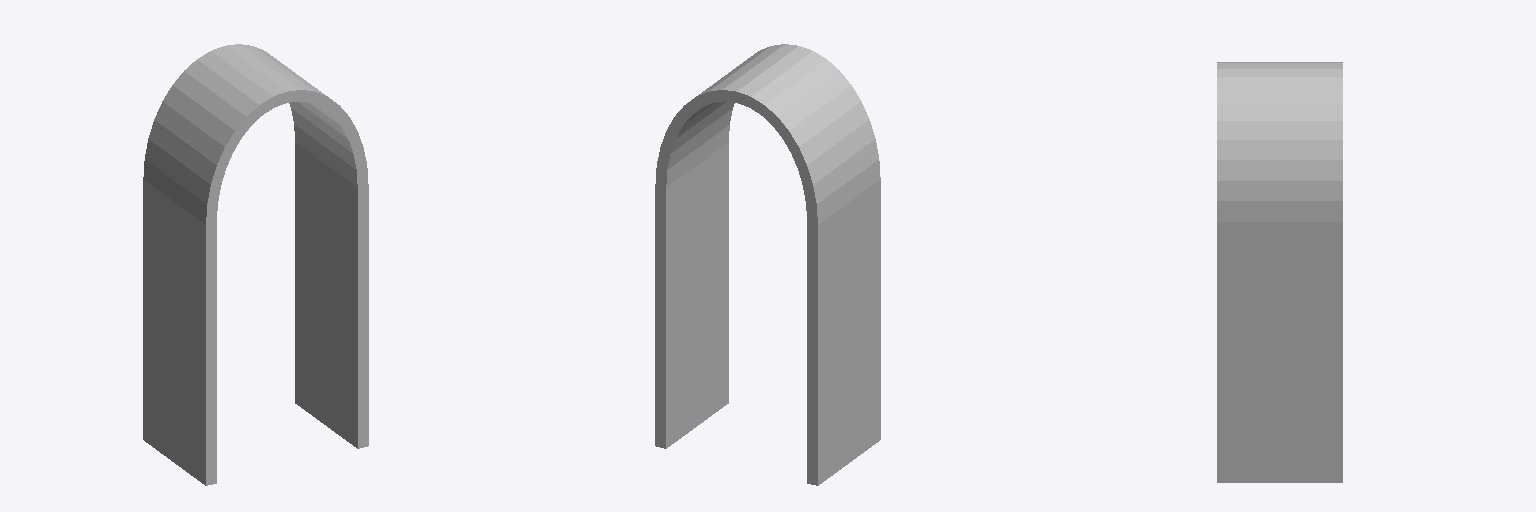
File: Arch (1).obj
3 views of the same model, side by side, from view 1: azimuth 30°, elevation 25°; view 2: azimuth 150°, elevation 25°; view 3: azimuth 270°, elevation 25° (orthographic).
Visible parts, largest first — view 1: Arch (1); view 2: Arch (1); view 3: Arch (1).
Boxes of the visible parts, <box> form: Arch (1): <box>143,44,368,485</box>; Arch (1): <box>655,44,880,485</box>; Arch (1): <box>1217,62,1342,482</box>.
Size of the model in its own units: 1.5 by 3.3 by 1.